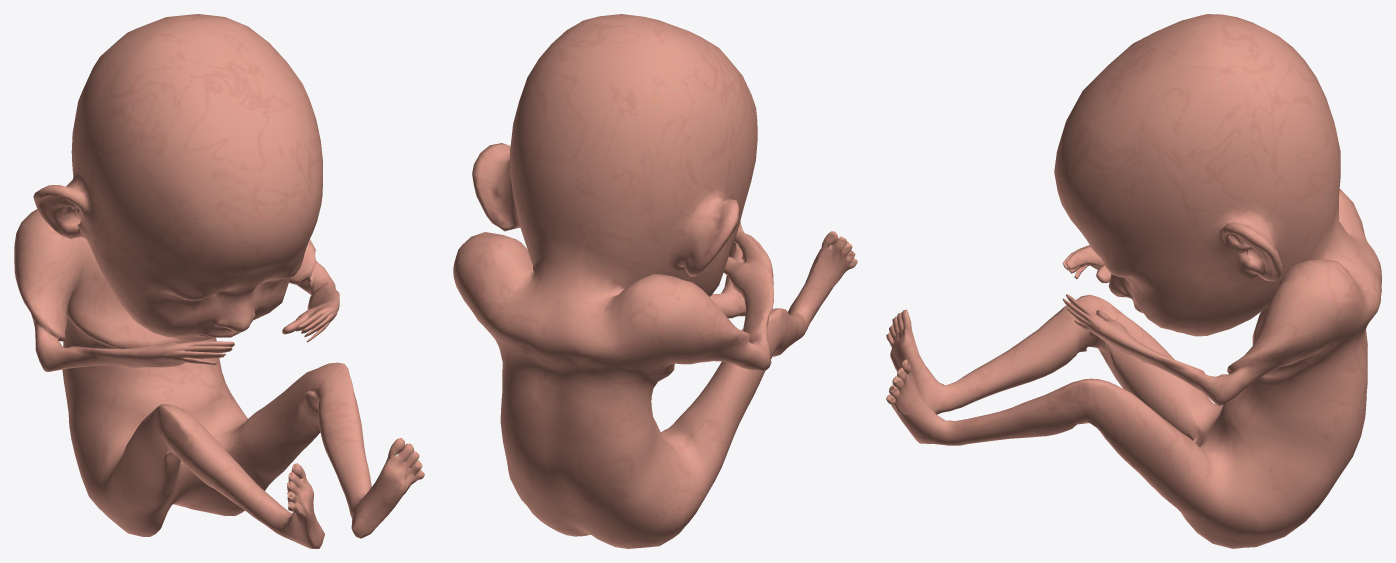
3 renders of one model, left to right at view 1: azimuth 30°, elevation 25°; view 2: azimuth 150°, elevation 25°; view 3: azimuth 270°, elevation 25°, orthographic.
Parts seen in each view (by area): view 1: Baby; view 2: Baby; view 3: Baby.
Part boxes in pixels (bbox=[...]): Baby: bbox=[14, 14, 424, 548]; Baby: bbox=[453, 14, 857, 548]; Baby: bbox=[886, 14, 1381, 548].
Bounding box in the file's own units: 0.0768 × 0.1261 × 0.1129.
Materials: 1 (1 with a texture image).
